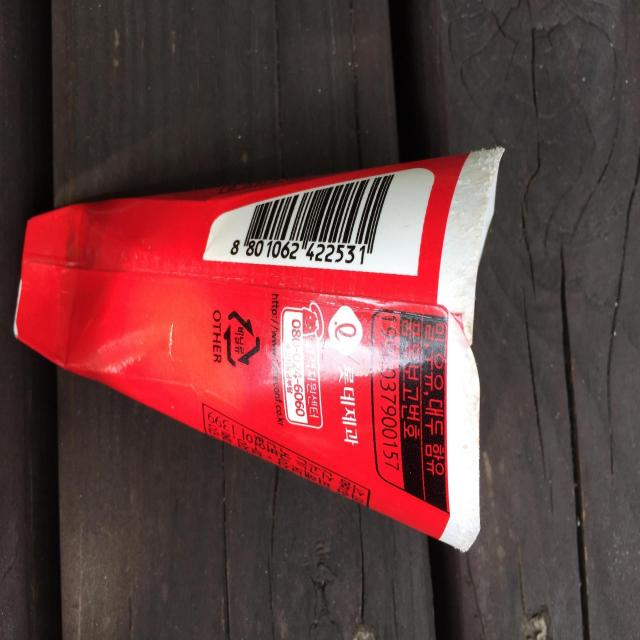paperpack: (14, 147, 504, 551)
